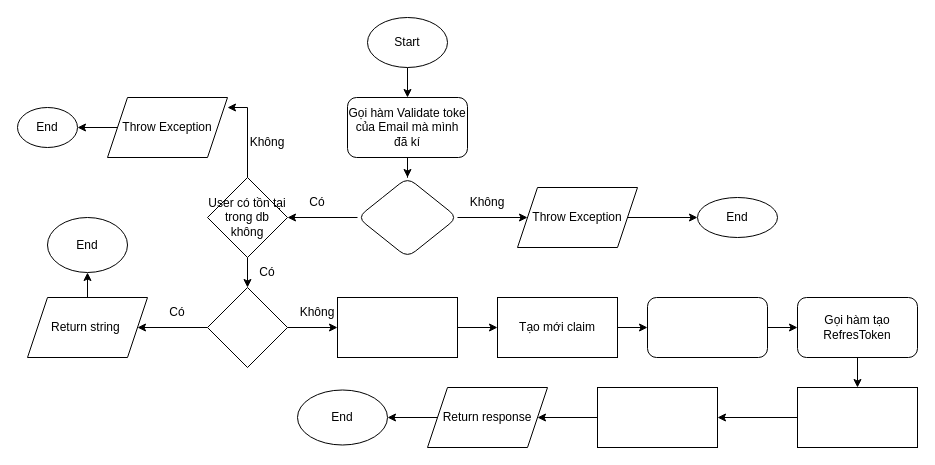
Image size: 935x465. Some labels were removed from this diagram. The shapes that lost their labels are listed below. From the top down, each one's centre as x and y in pixels, then its label:
the point at 407,217: Token có hợp lệ hay không
the point at 247,327: User đã verify chưa
the point at 397,327: Verify Update User
the point at 707,327: Gọi hàm Tạo AccessToken
the point at 657,417: Tạo mới refrestoken trong Db
the point at 857,417: Lấy ip Address và userAgent từ HttpContext
